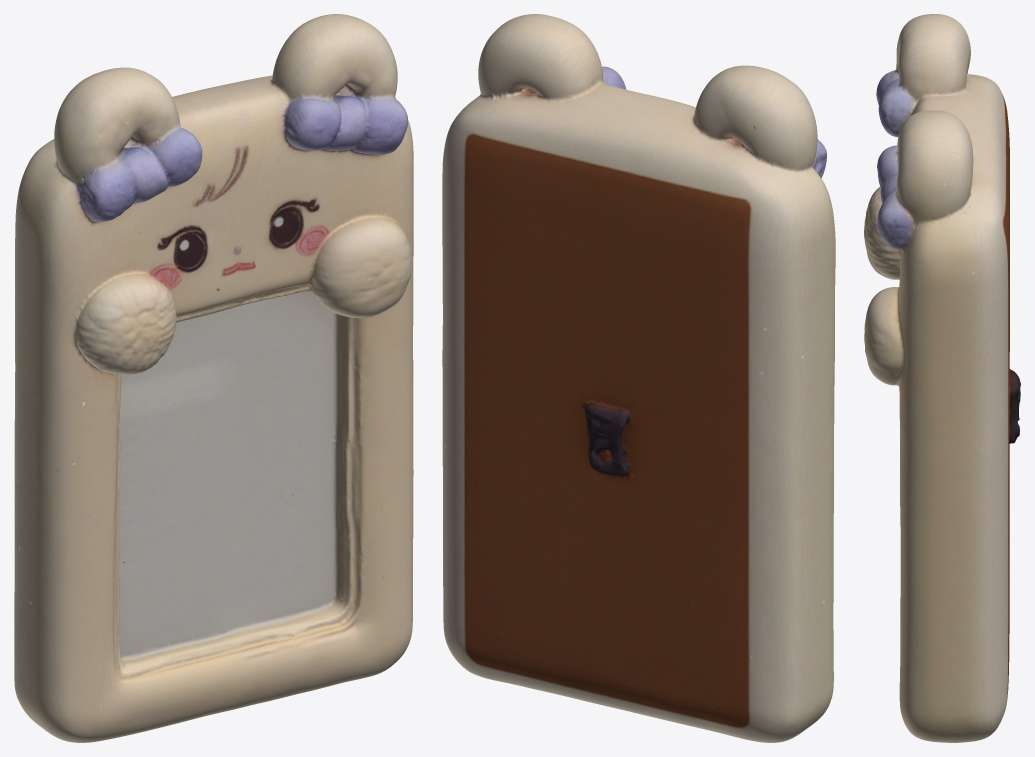
The model's file is profile-card-holder.glb.
The picture shows the model from 3 angles, left to right: view 1: azimuth 30°, elevation 25°; view 2: azimuth 150°, elevation 25°; view 3: azimuth 270°, elevation 25°; orthographic projection. The views are drawn at different scales.
Size of the model in its own units: 1.18 by 2 by 0.4685.
1 material, 1 textured.
